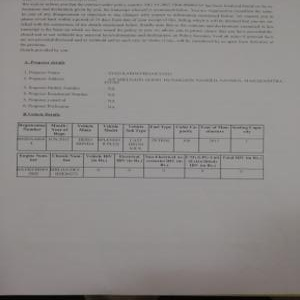table: (14, 120, 265, 153), (15, 152, 264, 179)
text: (18, 1, 276, 53), (21, 60, 288, 110)
